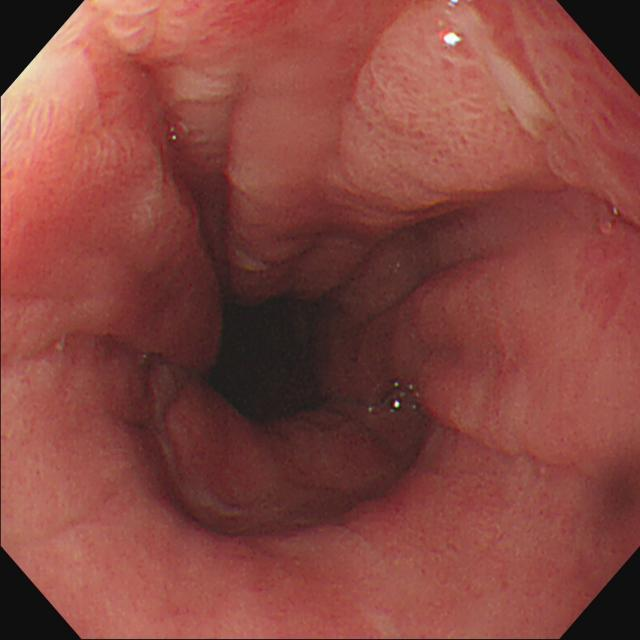A: (348, 34, 523, 192)
E: (209, 302, 330, 422)
